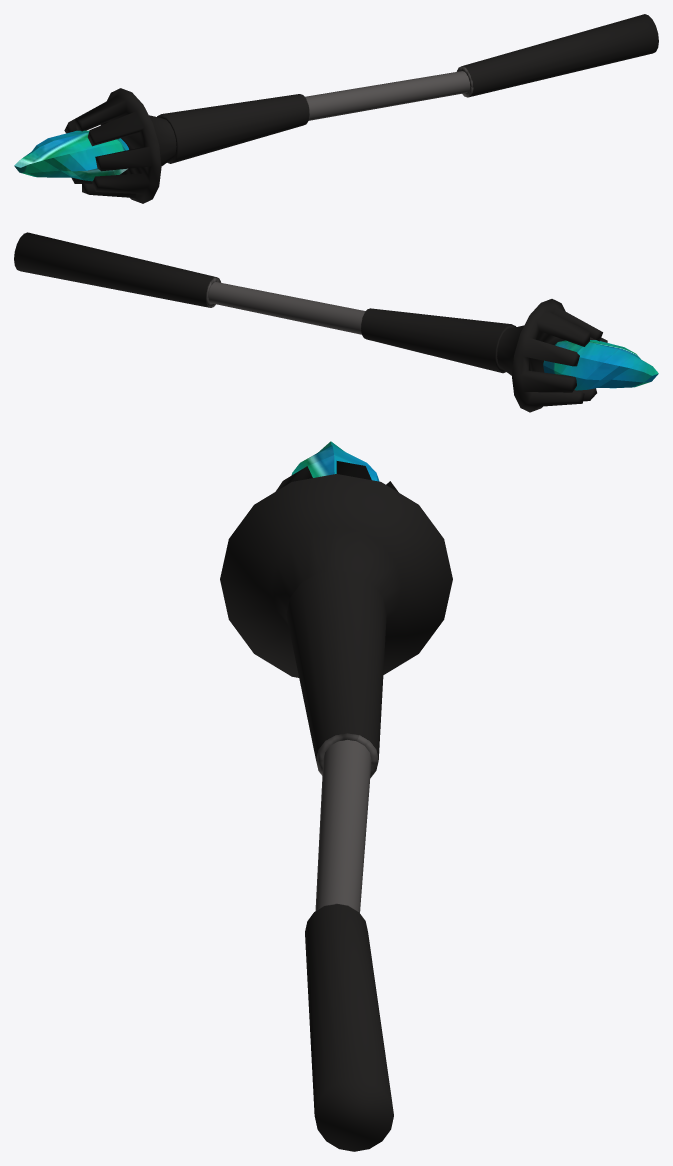
The model's file is 2Tier_staff_fix.fbx.
3 renders of one model, top to bottom at view 1: azimuth 30°, elevation 25°; view 2: azimuth 150°, elevation 25°; view 3: azimuth 270°, elevation 25°, orthographic. The views are drawn at different scales.
Visible parts, largest first — view 1: polySurface2; view 2: polySurface2; view 3: polySurface2.
Part boxes in pixels (x1,y1,x2,y2): polySurface2: (14, 14, 658, 203); polySurface2: (14, 232, 658, 412); polySurface2: (220, 441, 452, 1151).
Size of the model in its own units: 61.2 by 9.81 by 9.81.
2 materials, 2 textured.
